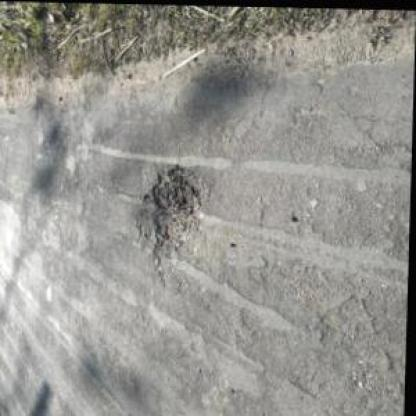pothole: (136, 162, 207, 273)
